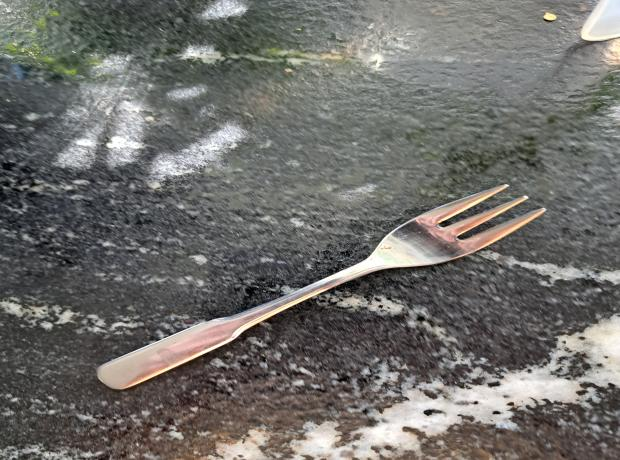metal: (89, 184, 542, 392)
